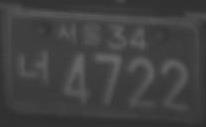2: (158, 56, 192, 113), (125, 54, 158, 110)
3: (105, 20, 128, 51)
4: (60, 50, 93, 106), (128, 23, 151, 53)
7: (93, 52, 123, 107)
너: (14, 46, 53, 86)
서울_O: (55, 20, 104, 48)
